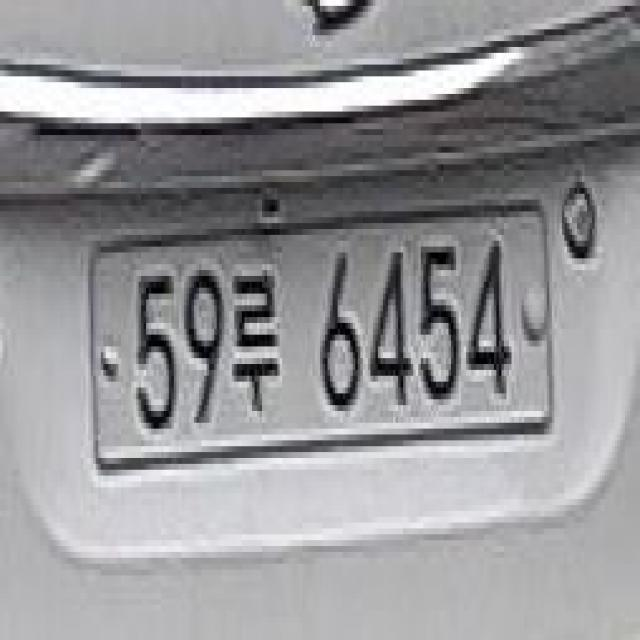4: (467, 220, 515, 415), (368, 232, 412, 418)
5: (415, 230, 463, 420), (132, 256, 177, 434)
6: (318, 237, 363, 423)
9: (182, 250, 226, 446)
license_plate: (75, 175, 559, 507)
lu: (230, 247, 286, 430)
